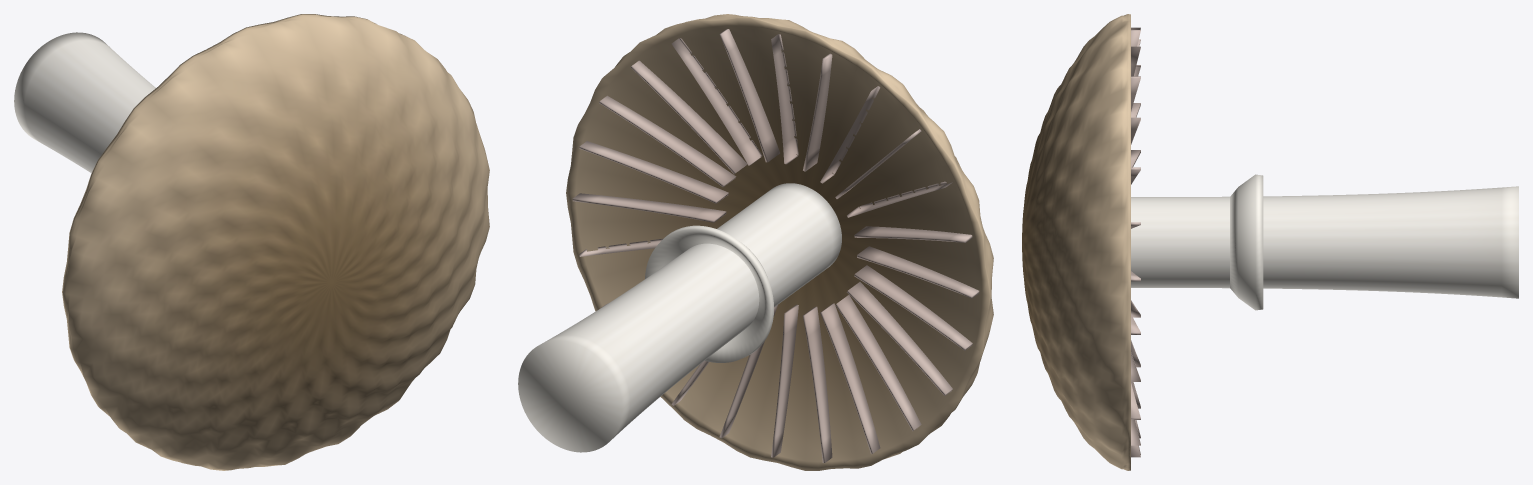
Rendered from agaricus-subrufescens.glb.
The picture shows the model from 3 angles, left to right: view 1: azimuth 30°, elevation 25°; view 2: azimuth 150°, elevation 25°; view 3: azimuth 270°, elevation 25°; orthographic projection. The views are drawn at different scales.
Visible parts, largest first — view 1: pileus_cap, stipe_stem; view 2: pileus_cap, stipe_stem, lamellae_gills, annulus_ring; view 3: pileus_cap, stipe_stem, annulus_ring, lamellae_gills.
Part boxes in pixels (x1,y1,x2,y2): pileus_cap: [62, 14, 489, 470]; stipe_stem: [14, 32, 155, 172]; pileus_cap: [566, 14, 993, 470]; stipe_stem: [518, 183, 841, 452]; lamellae_gills: [572, 29, 979, 462]; annulus_ring: [645, 225, 773, 362]; pileus_cap: [1022, 14, 1130, 470]; stipe_stem: [1131, 186, 1518, 298]; annulus_ring: [1230, 174, 1263, 310]; lamellae_gills: [1131, 27, 1140, 457].
Size of the model in its own units: 2.02 by 2.01 by 2.19.
